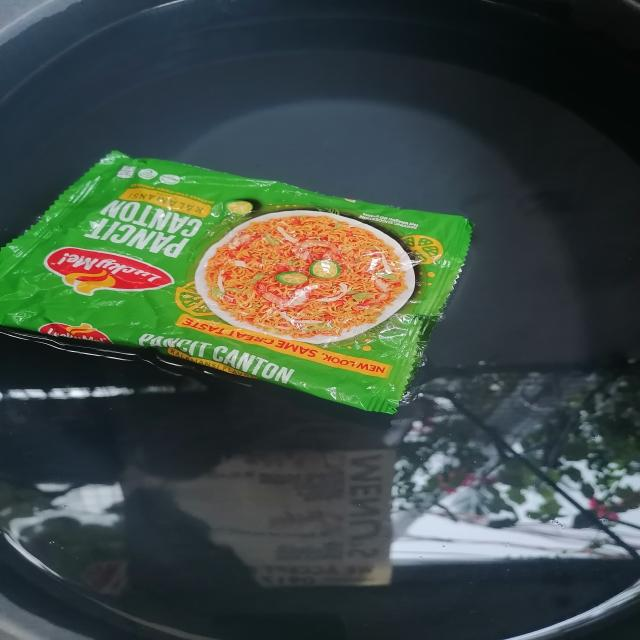Plastic Wrapper: (0, 151, 471, 413)
